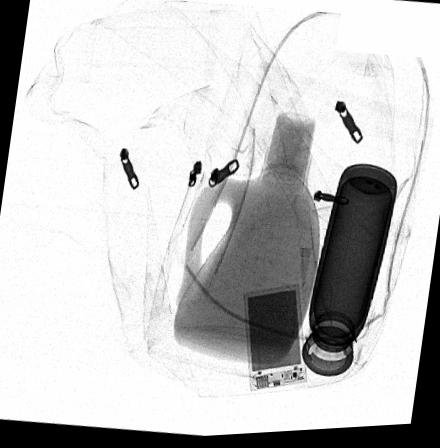Powerbank: (242, 286, 307, 395)
